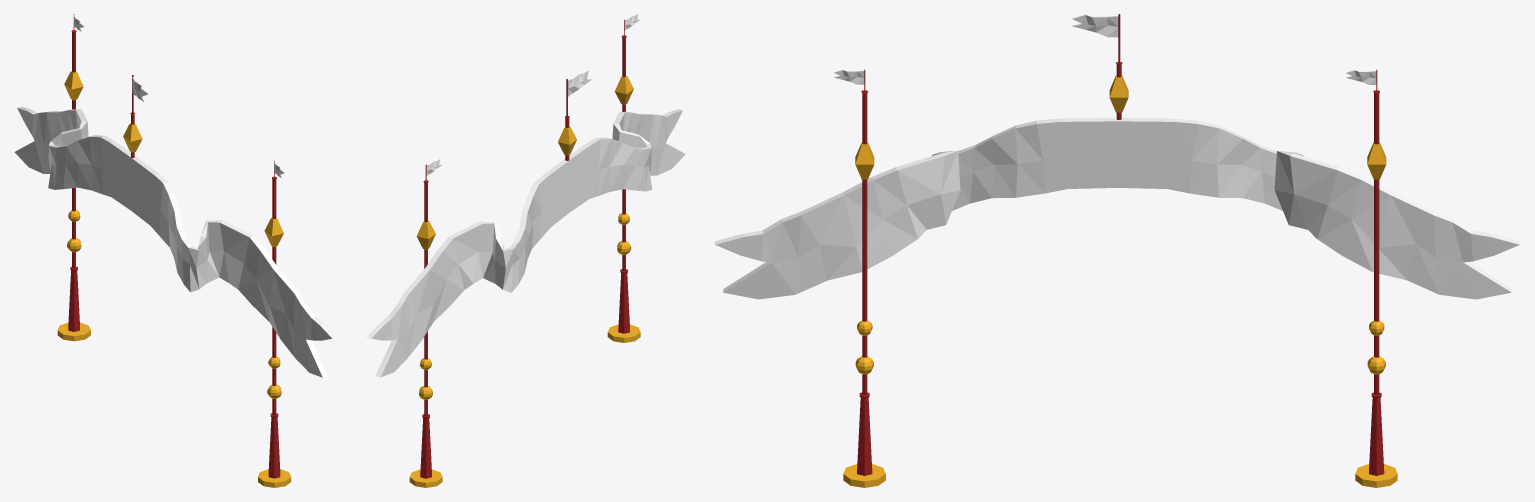
Rendered from SM_Entrance_Fixed.fbx.
3 renders of one model, left to right at view 1: azimuth 30°, elevation 25°; view 2: azimuth 150°, elevation 25°; view 3: azimuth 270°, elevation 25°, orthographic. The views are drawn at different scales.
Visible parts, largest first — view 1: SM_Park_Entrance; view 2: SM_Park_Entrance; view 3: SM_Park_Entrance.
Part boxes in pixels (x1,y1,x2,y2): SM_Park_Entrance: (14, 14, 336, 487); SM_Park_Entrance: (366, 14, 685, 487); SM_Park_Entrance: (714, 14, 1520, 487).
Bounding box in the file's own units: 70.43 × 322 × 536.
1 material, 1 textured.
